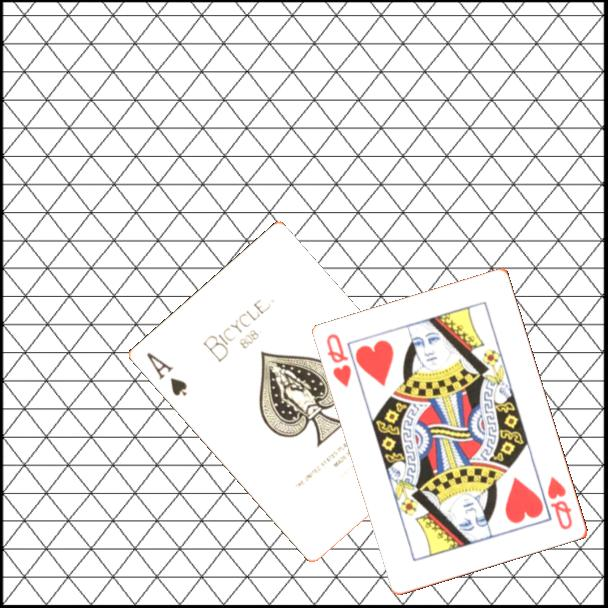h12: (544, 473, 576, 533), (323, 330, 355, 390)
s01: (142, 349, 190, 399)
